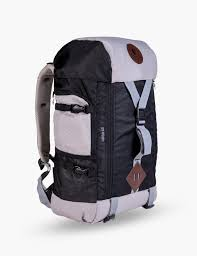bag: (34, 35, 165, 222)
